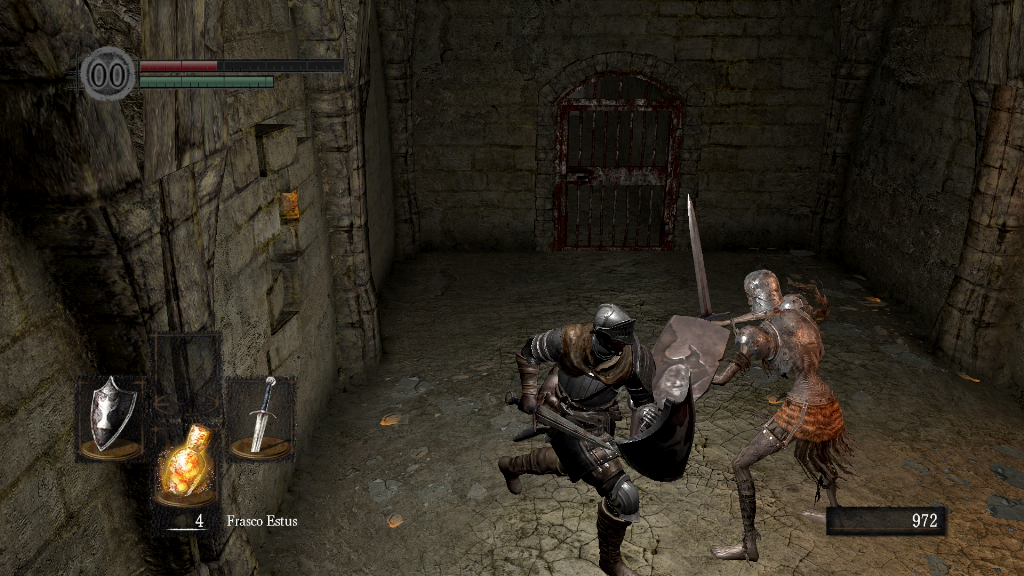health: (138, 58, 343, 71)
humanity: (80, 45, 136, 102)
player: (496, 303, 696, 576)
souls: (825, 506, 945, 536)
stamina: (138, 74, 274, 88)
undeadSoldier: (714, 267, 856, 563)
